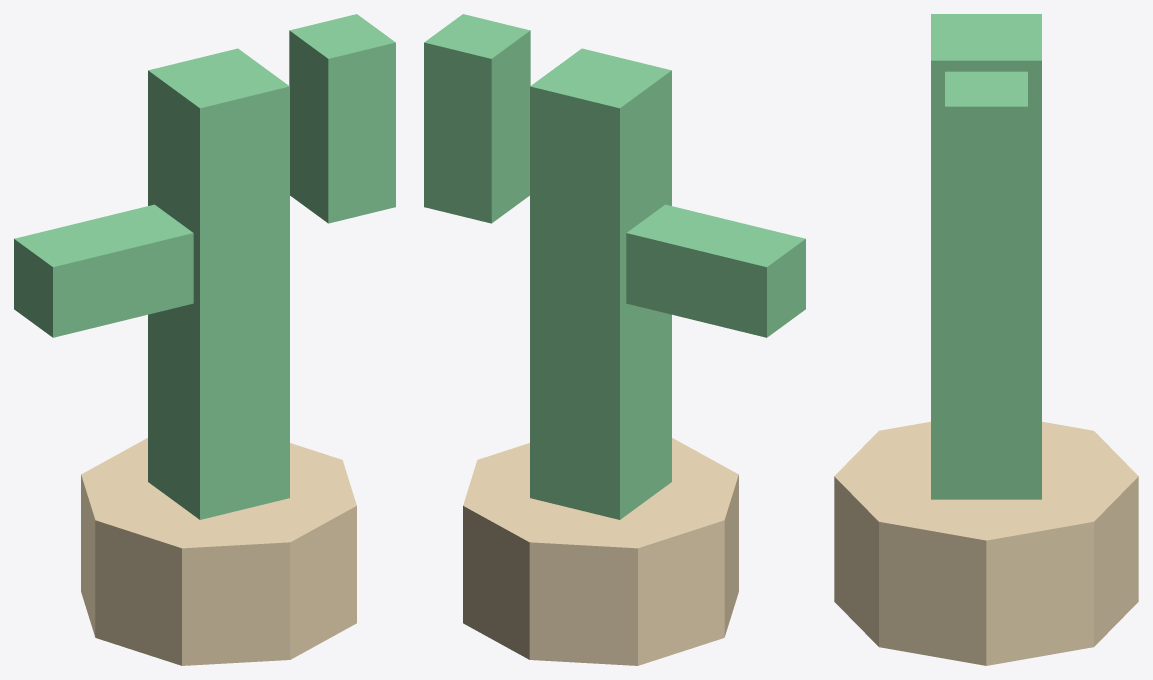
File: prop_cactus.glb
3 renders of one model, left to right at view 1: azimuth 30°, elevation 25°; view 2: azimuth 150°, elevation 25°; view 3: azimuth 270°, elevation 25°, orthographic. The views are drawn at different scales.
Visible parts, largest first — view 1: stem, pot, arm_r, arm_l; view 2: stem, pot, arm_r, arm_l; view 3: pot, stem, arm_r.
Part boxes in pixels (x1,y1,x2,y2): stem: (148,48,289,519); pot: (81,438,356,665); arm_r: (289,14,395,223); arm_l: (14,204,193,337); stem: (530,48,671,519); pot: (463,438,738,665); arm_r: (424,14,530,223); arm_l: (626,204,805,337); pot: (834,421,1138,665); stem: (931,14,1041,499); arm_r: (945,71,1027,282).
Size of the model in its own units: 0.61 by 0.92 by 0.44.
